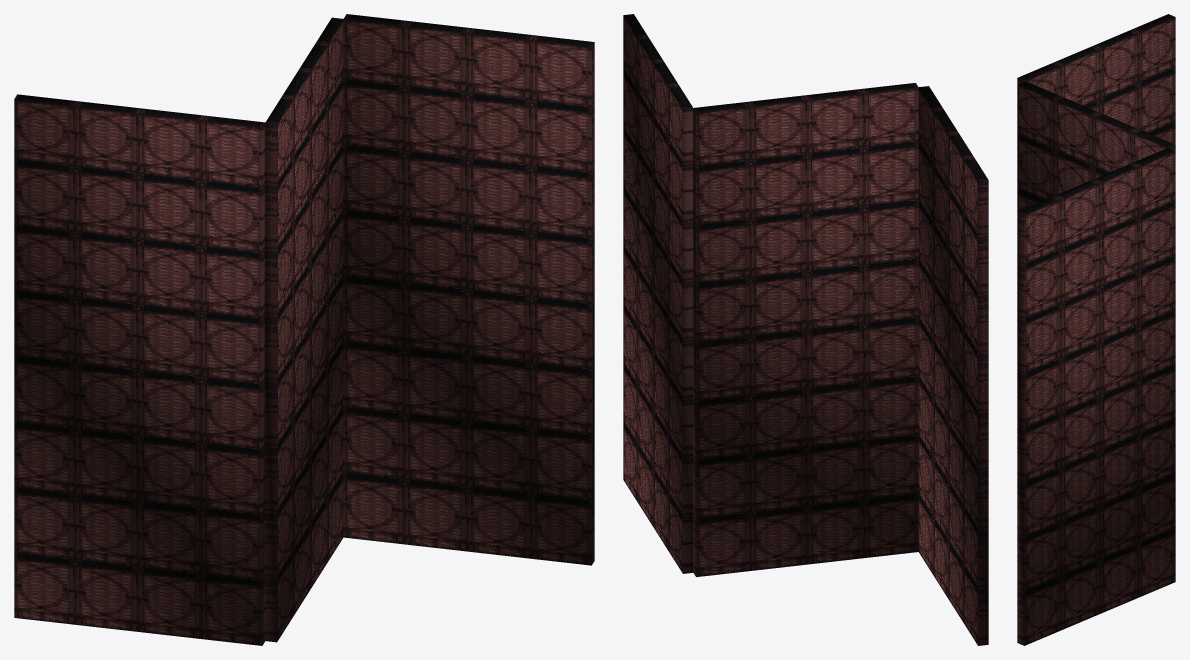
File: 3058IMRL03_09.gltf
3 renders of one model, left to right at view 1: azimuth 30°, elevation 25°; view 2: azimuth 150°, elevation 25°; view 3: azimuth 270°, elevation 25°, orthographic. The views are drawn at different scales.
Visible parts, largest first — view 1: 3058IMRL03_09; view 2: 3058IMRL03_09; view 3: 3058IMRL03_09.
Part boxes in pixels (x1=…): 3058IMRL03_09: x1=14, y1=14, x2=594, y2=645; 3058IMRL03_09: x1=623, y1=14, x2=988, y2=645; 3058IMRL03_09: x1=1017, y1=14, x2=1175, y2=645.
Size of the model in its own units: 1.88 by 1.89 by 0.6279.
Materials: 1 (1 with a texture image).
